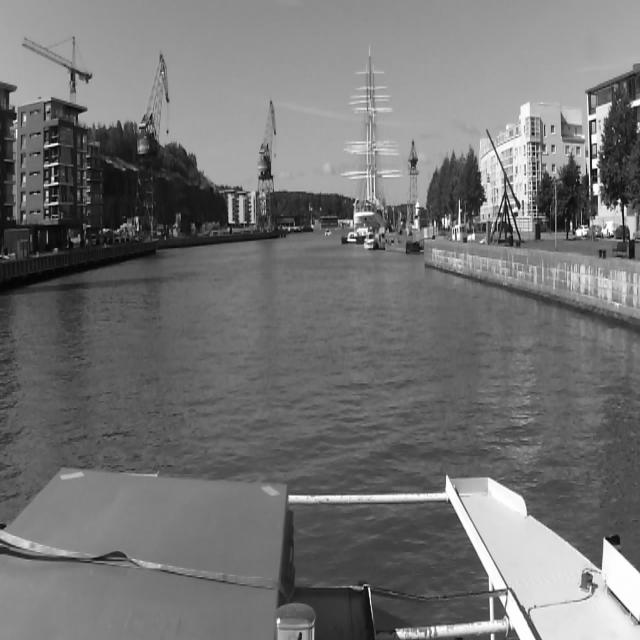ship: (349, 52, 401, 217), (352, 225, 376, 244), (362, 230, 378, 252), (324, 230, 330, 238)
